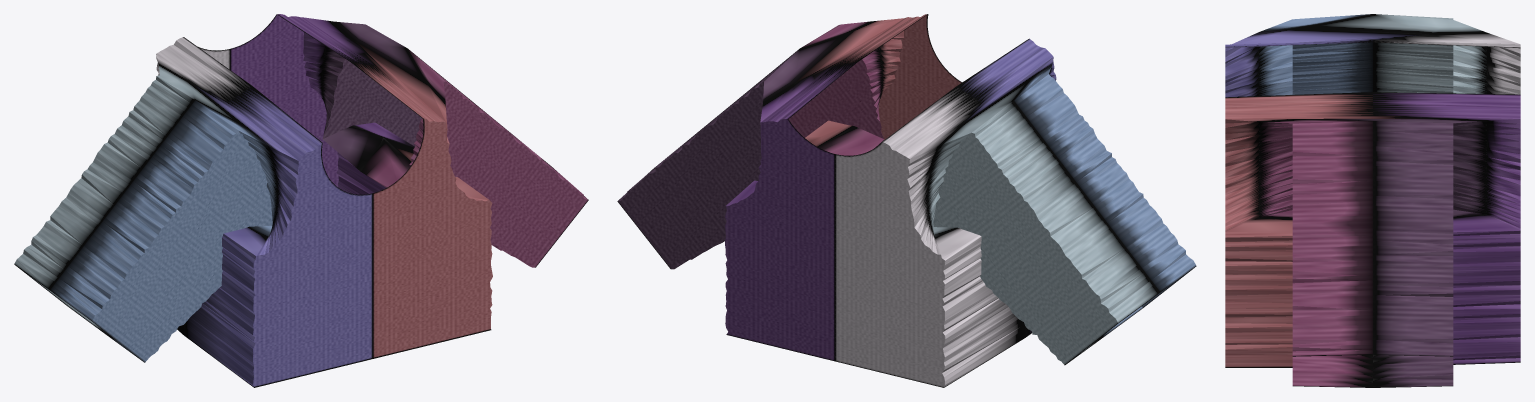
Rendered from valid_garment_upper_boxmesh.obj.
3 views of the same model, side by side, from view 1: azimuth 30°, elevation 25°; view 2: azimuth 150°, elevation 25°; view 3: azimuth 270°, elevation 25° (orthographic). The views are drawn at different scales.
Size of the model in its own units: 112 by 49.57 by 55.
1 material, 1 textured.
